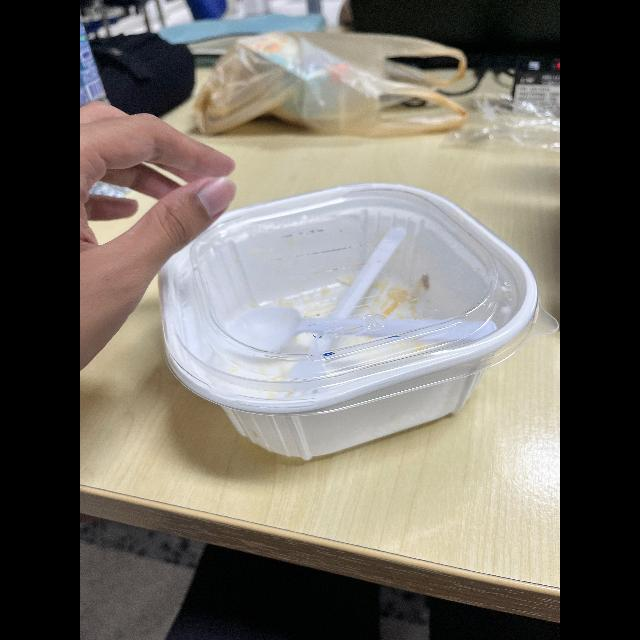plastic_box: (133, 172, 542, 452)
